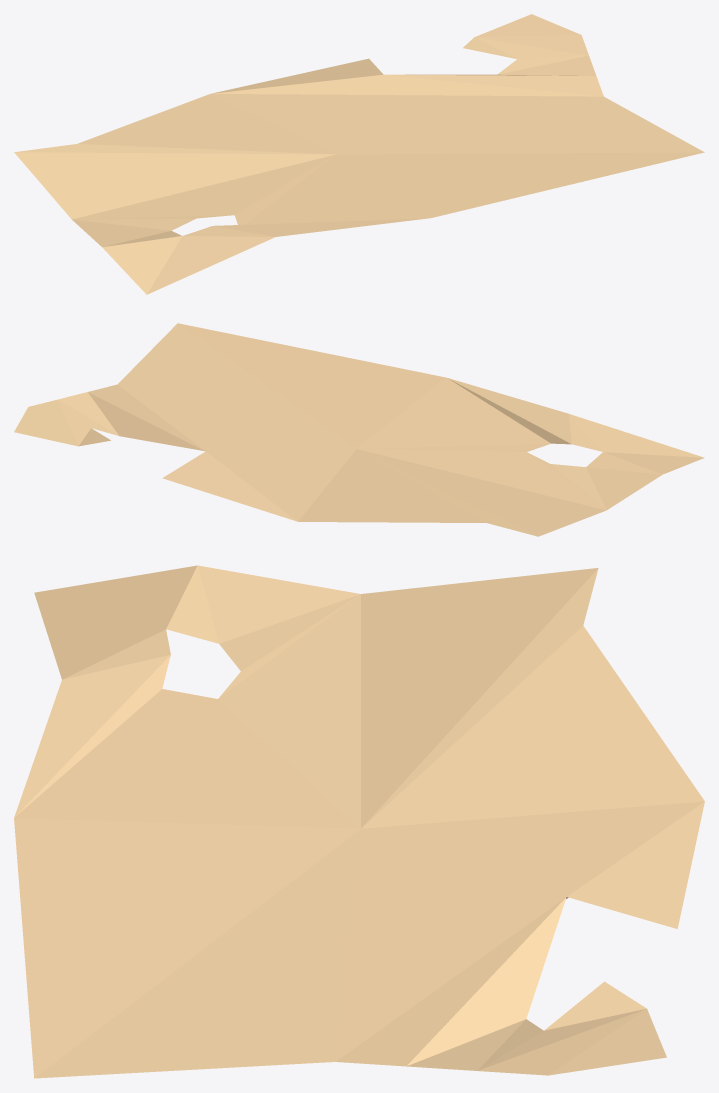
The model's file is Prop_Paper_Parchment_Map_Letter_Worn_03.FBX.
3 views of the same model, one above another, from view 1: azimuth 30°, elevation 25°; view 2: azimuth 150°, elevation 25°; view 3: azimuth 270°, elevation 25° (orthographic). The views are drawn at different scales.
Parts seen in each view (by area): view 1: Prop_Paper_Parchment_Map_Letter_Worn_03; view 2: Prop_Paper_Parchment_Map_Letter_Worn_03; view 3: Prop_Paper_Parchment_Map_Letter_Worn_03.
Part boxes in pixels (x1,y1,x2,y2): Prop_Paper_Parchment_Map_Letter_Worn_03: (14, 14, 704, 294); Prop_Paper_Parchment_Map_Letter_Worn_03: (14, 323, 704, 536); Prop_Paper_Parchment_Map_Letter_Worn_03: (14, 565, 704, 1078).
Size of the model in its own units: 909 by 36.55 by 518.
